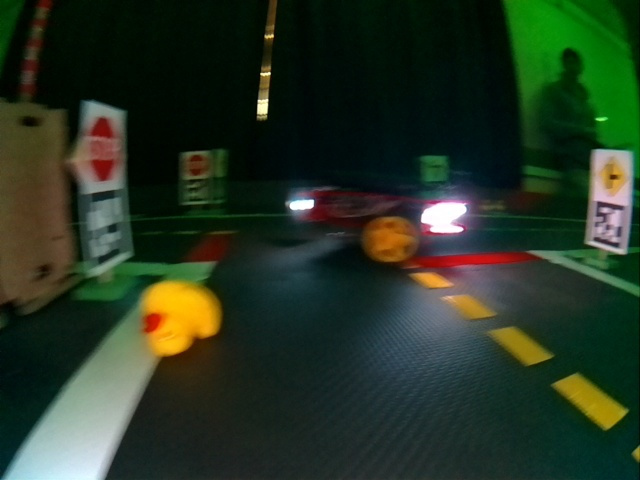Duckie: (144, 281, 220, 356)
Duckiebot: (286, 178, 469, 259)
Intersection sign: (591, 150, 630, 199)
QR code: (88, 190, 132, 272), (586, 204, 629, 246), (182, 178, 209, 204)
Stop sign: (84, 104, 124, 185), (186, 152, 208, 176)
